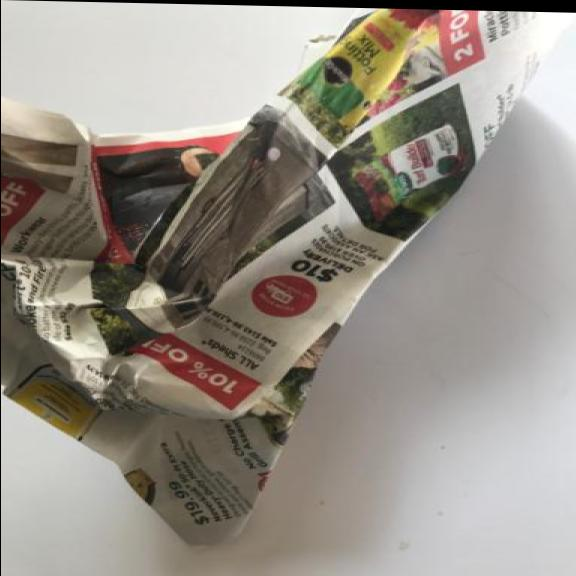Kertas: (4, 0, 570, 562)
